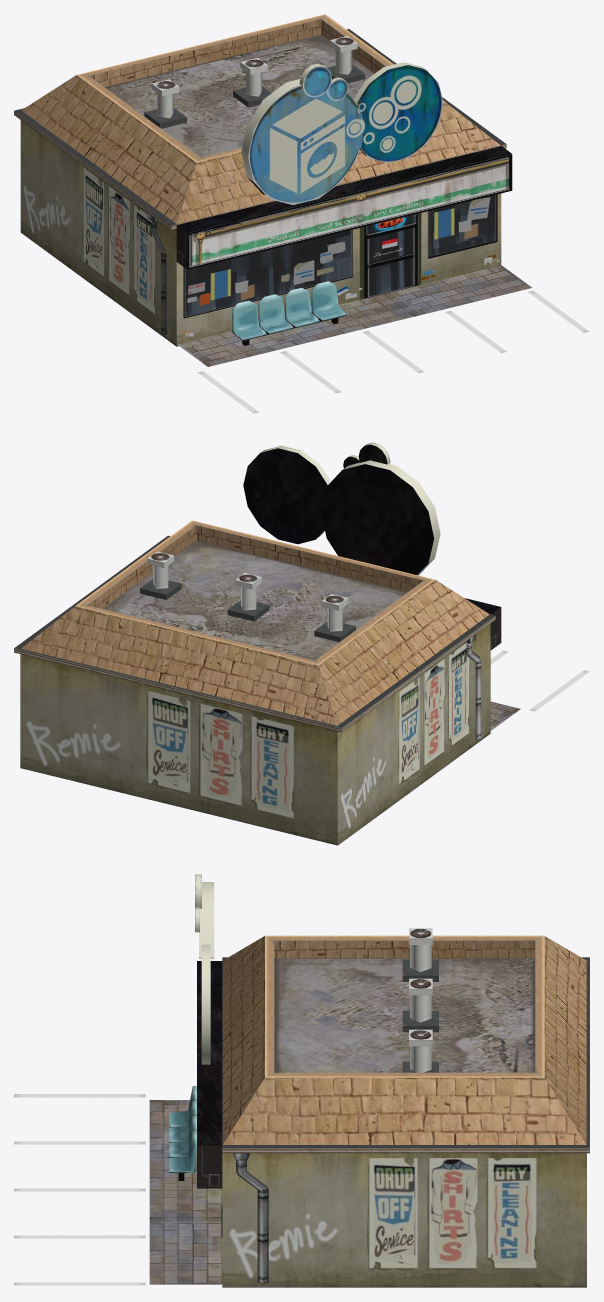
The model's file is LM_Laundrette.glb.
The picture shows the model from 3 angles, top to bottom: view 1: azimuth 30°, elevation 25°; view 2: azimuth 150°, elevation 25°; view 3: azimuth 270°, elevation 25°; orthographic projection. The views are drawn at different scales.
Visible parts, largest first — view 1: LM_Laundrette_pasted__pCube65, pasted__pCylinder8, pasted__polySurface254, pasted__pPlane94, pasted__pCylinder9, pasted__polySurface255, pasted__pCube81, pasted__pCube79, pasted__pCube67, pasted__pCube80, pasted__pCylinder10, pasted__pCylinder7; view 2: LM_Laundrette_pasted__pCube65, pasted__polySurface254, pasted__pCylinder8, pasted__pCylinder9, pasted__polySurface255, pasted__pCylinder7, pasted__pCylinder10; view 3: LM_Laundrette_pasted__pCube65, pasted__polySurface254, pasted__pPlane94, pasted__polySurface255, pasted__pCube72 (×3), pasted__pCylinder7, pasted__pCylinder9, pasted__pCube69 (×2), pasted__pCylinder8, pasted__pCube81.
Boxes of the visible parts, x1=… form: LM_Laundrette_pasted__pCube65: x1=20, y1=14, x2=512, y2=346; pasted__pCylinder8: x1=241, y1=79, x2=363, y2=204; pasted__polySurface254: x1=105, y1=34, x2=374, y2=157; pasted__pPlane94: x1=177, y1=265, x2=532, y2=366; pasted__pCylinder9: x1=353, y1=62, x2=443, y2=162; pasted__polySurface255: x1=14, y1=29, x2=506, y2=229; pasted__pCube81: x1=311, y1=281, x2=346, y2=321; pasted__pCube79: x1=258, y1=294, x2=293, y2=334; pasted__pCube67: x1=232, y1=300, x2=266, y2=340; pasted__pCube80: x1=284, y1=288, x2=319, y2=327; pasted__pCylinder10: x1=299, y1=63, x2=331, y2=97; pasted__pCylinder7: x1=151, y1=221, x2=166, y2=334; LM_Laundrette_pasted__pCube65: x1=20, y1=520, x2=501, y2=845; pasted__polySurface254: x1=103, y1=540, x2=407, y2=660; pasted__pCylinder8: x1=321, y1=460, x2=440, y2=575; pasted__pCylinder9: x1=243, y1=445, x2=330, y2=544; pasted__polySurface255: x1=14, y1=535, x2=495, y2=732; pasted__pCylinder7: x1=466, y1=642, x2=480, y2=740; pasted__pCylinder10: x1=358, y1=442, x2=390, y2=464; LM_Laundrette_pasted__pCube65: x1=197, y1=935, x2=586, y2=1287; pasted__polySurface254: x1=274, y1=958, x2=535, y2=1072; pasted__pPlane94: x1=149, y1=1100, x2=222, y2=1284; pasted__polySurface255: x1=222, y1=957, x2=589, y2=1153; pasted__pCube72 (×3): x1=410, y1=945, x2=431, y2=1072; pasted__pCylinder7: x1=236, y1=1160, x2=268, y2=1284; pasted__pCylinder9: x1=201, y1=944, x2=210, y2=1064; pasted__pCube69 (×2): x1=402, y1=960, x2=438, y2=1032; pasted__pCylinder8: x1=199, y1=882, x2=214, y2=958; pasted__pCube81: x1=169, y1=1131, x2=196, y2=1172.
Bounding box in the file's own units: 1266 × 909 × 1580.
1 material, 1 textured.
